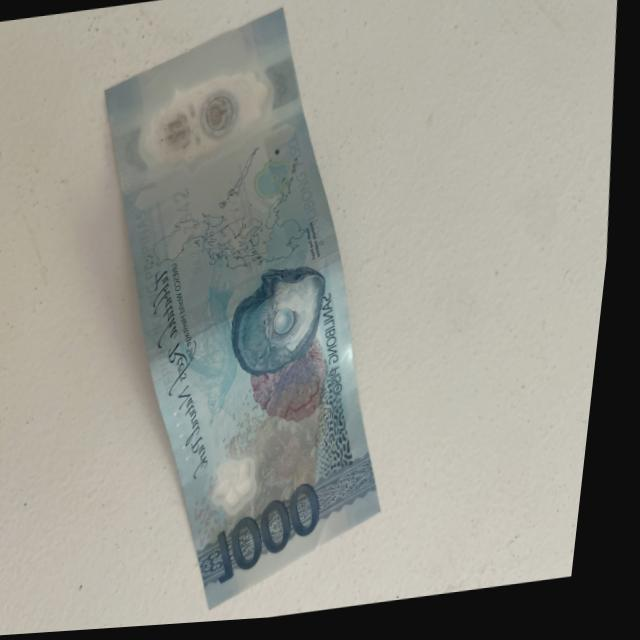clear_window: (105, 55, 333, 205)
sampaguita: (216, 458, 273, 522)
security_thread: (145, 236, 352, 366)
value: (218, 487, 340, 589)
